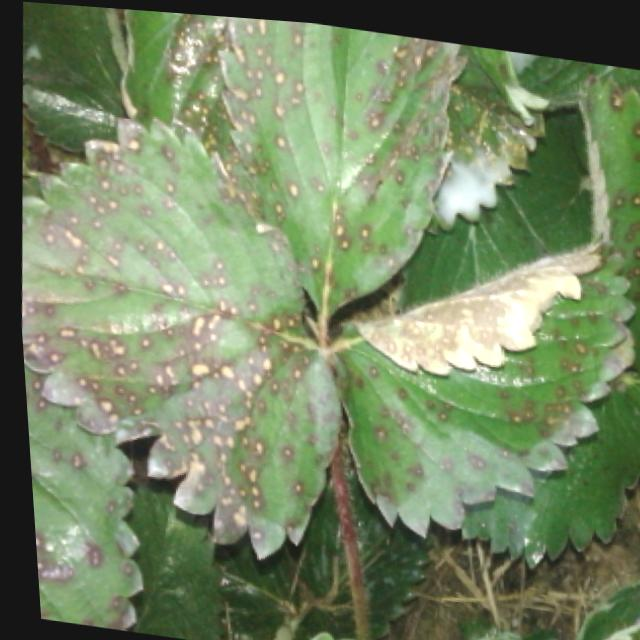Leaf Spot: (16, 111, 338, 558), (323, 226, 634, 533), (211, 13, 467, 320), (19, 364, 139, 629), (429, 36, 545, 223), (571, 64, 640, 360), (113, 7, 242, 153), (503, 41, 640, 102), (576, 583, 640, 640), (609, 353, 640, 418)
